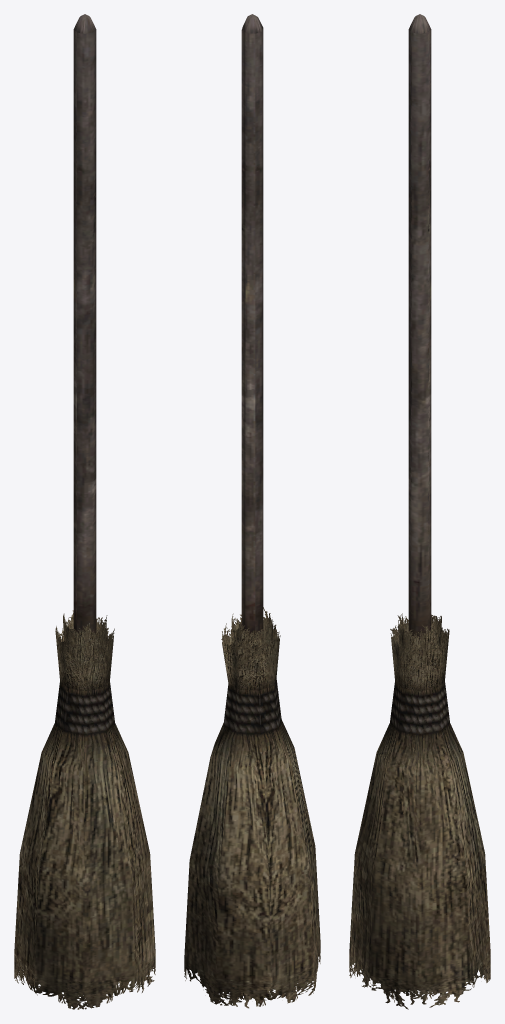
The model's file is broom.dae.
3 renders of one model, left to right at view 1: azimuth 90°, elevation 25°; view 2: azimuth 150°, elevation 25°; view 3: azimuth 270°, elevation 25°, orthographic.
Visible parts, largest first — view 1: polySurface16, polySurface9, polySurface8, polySurface13, polySurface11; view 2: polySurface16, polySurface9, polySurface8, polySurface13; view 3: polySurface16, polySurface9, polySurface8, polySurface13, polySurface10.
Boxes of the visible parts, bbox=[...] form: polySurface16: bbox=[14, 621, 155, 1007]; polySurface9: bbox=[73, 14, 96, 634]; polySurface8: bbox=[14, 620, 155, 1009]; polySurface13: bbox=[63, 614, 107, 651]; polySurface11: bbox=[34, 980, 139, 1009]; polySurface16: bbox=[184, 624, 320, 1005]; polySurface9: bbox=[241, 14, 263, 636]; polySurface8: bbox=[184, 623, 320, 1005]; polySurface13: bbox=[231, 607, 273, 649]; polySurface16: bbox=[349, 625, 490, 1004]; polySurface9: bbox=[408, 14, 431, 637]; polySurface8: bbox=[349, 626, 490, 1007]; polySurface13: bbox=[397, 613, 441, 655]; polySurface10: bbox=[398, 614, 441, 639].
Bounding box in the file's own units: 0.2776 × 2.12 × 0.2776.
